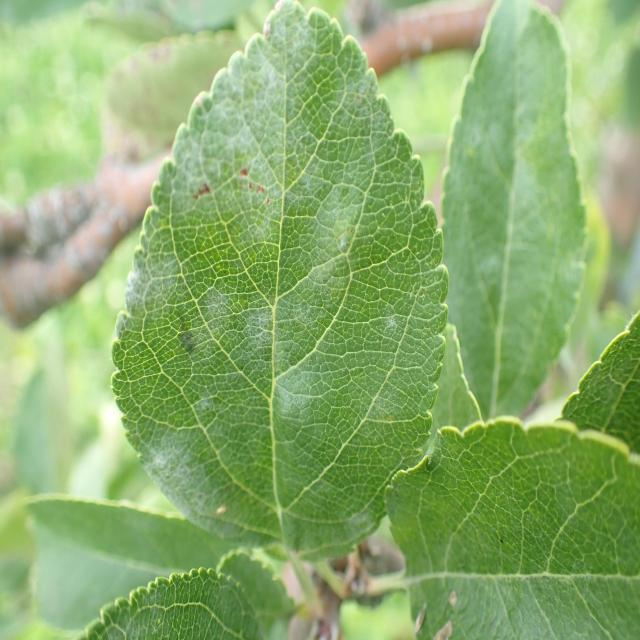Powdery_mildew: (121, 0, 443, 576), (442, 0, 587, 453)
